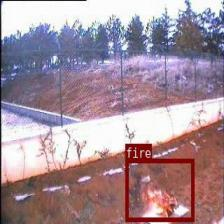fire: (124, 158, 194, 221)
